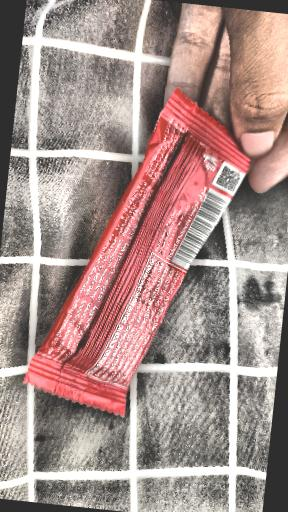chocho: (0, 74, 287, 470)
